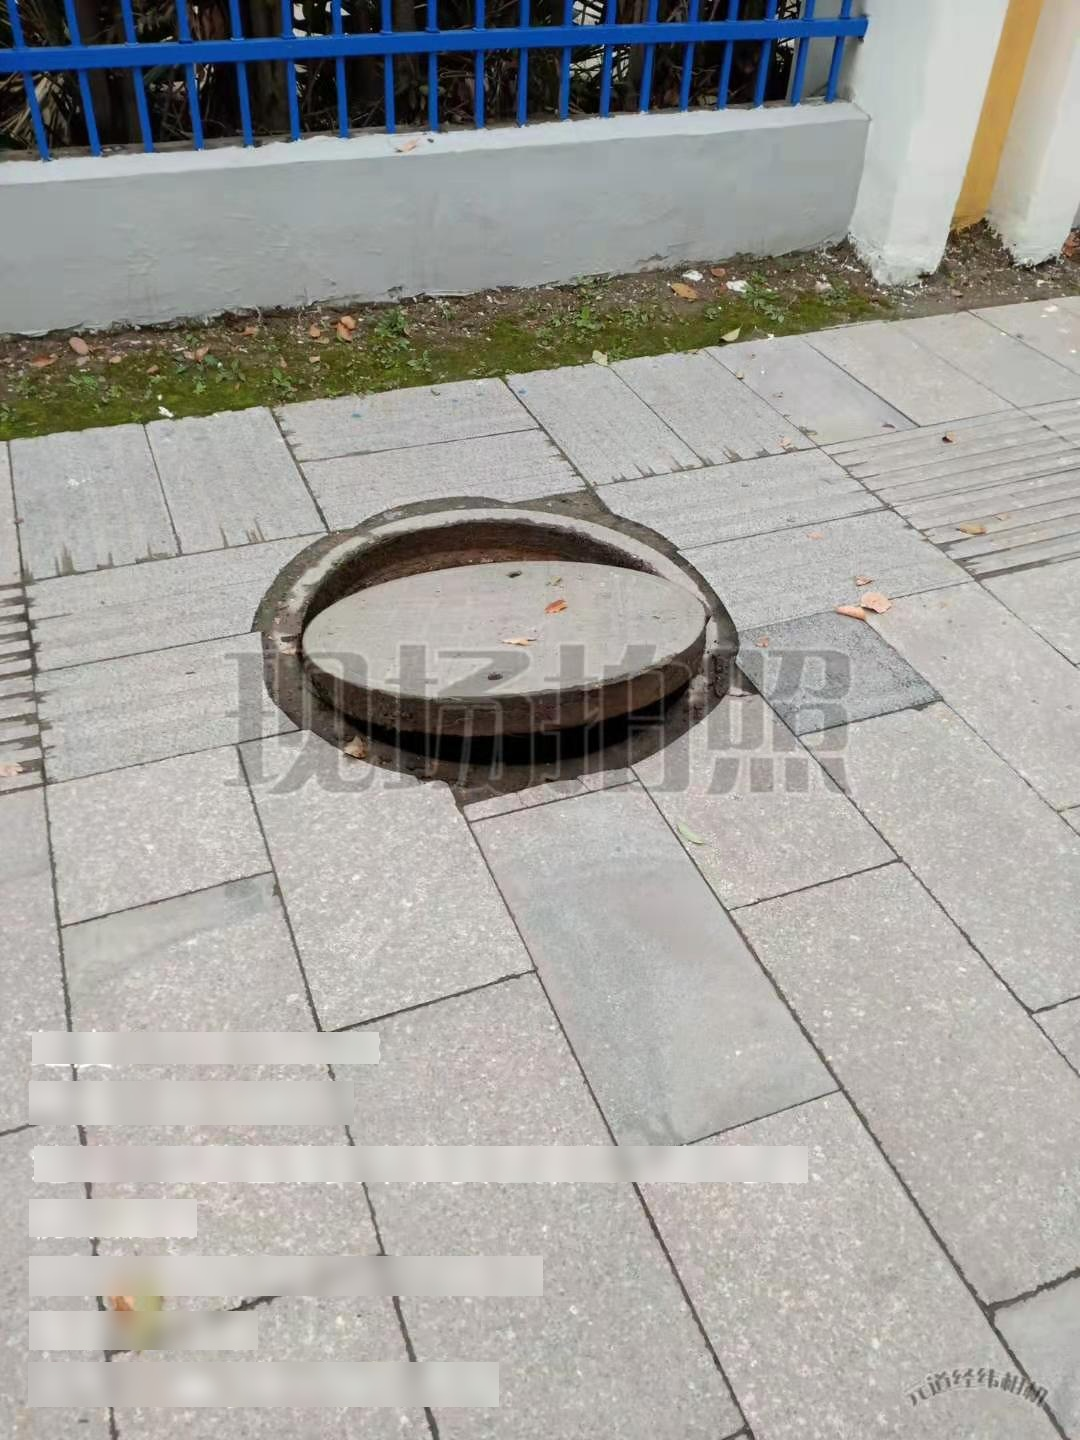uncovered: (265, 505, 736, 788)
